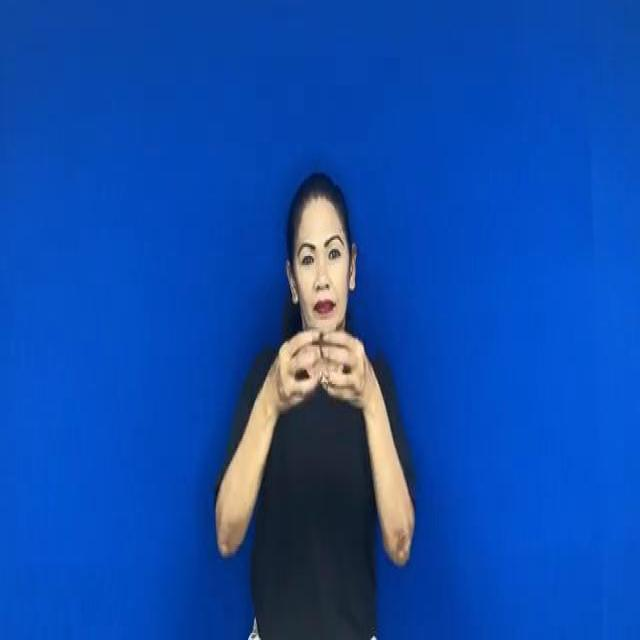egg: (260, 314, 378, 428)
